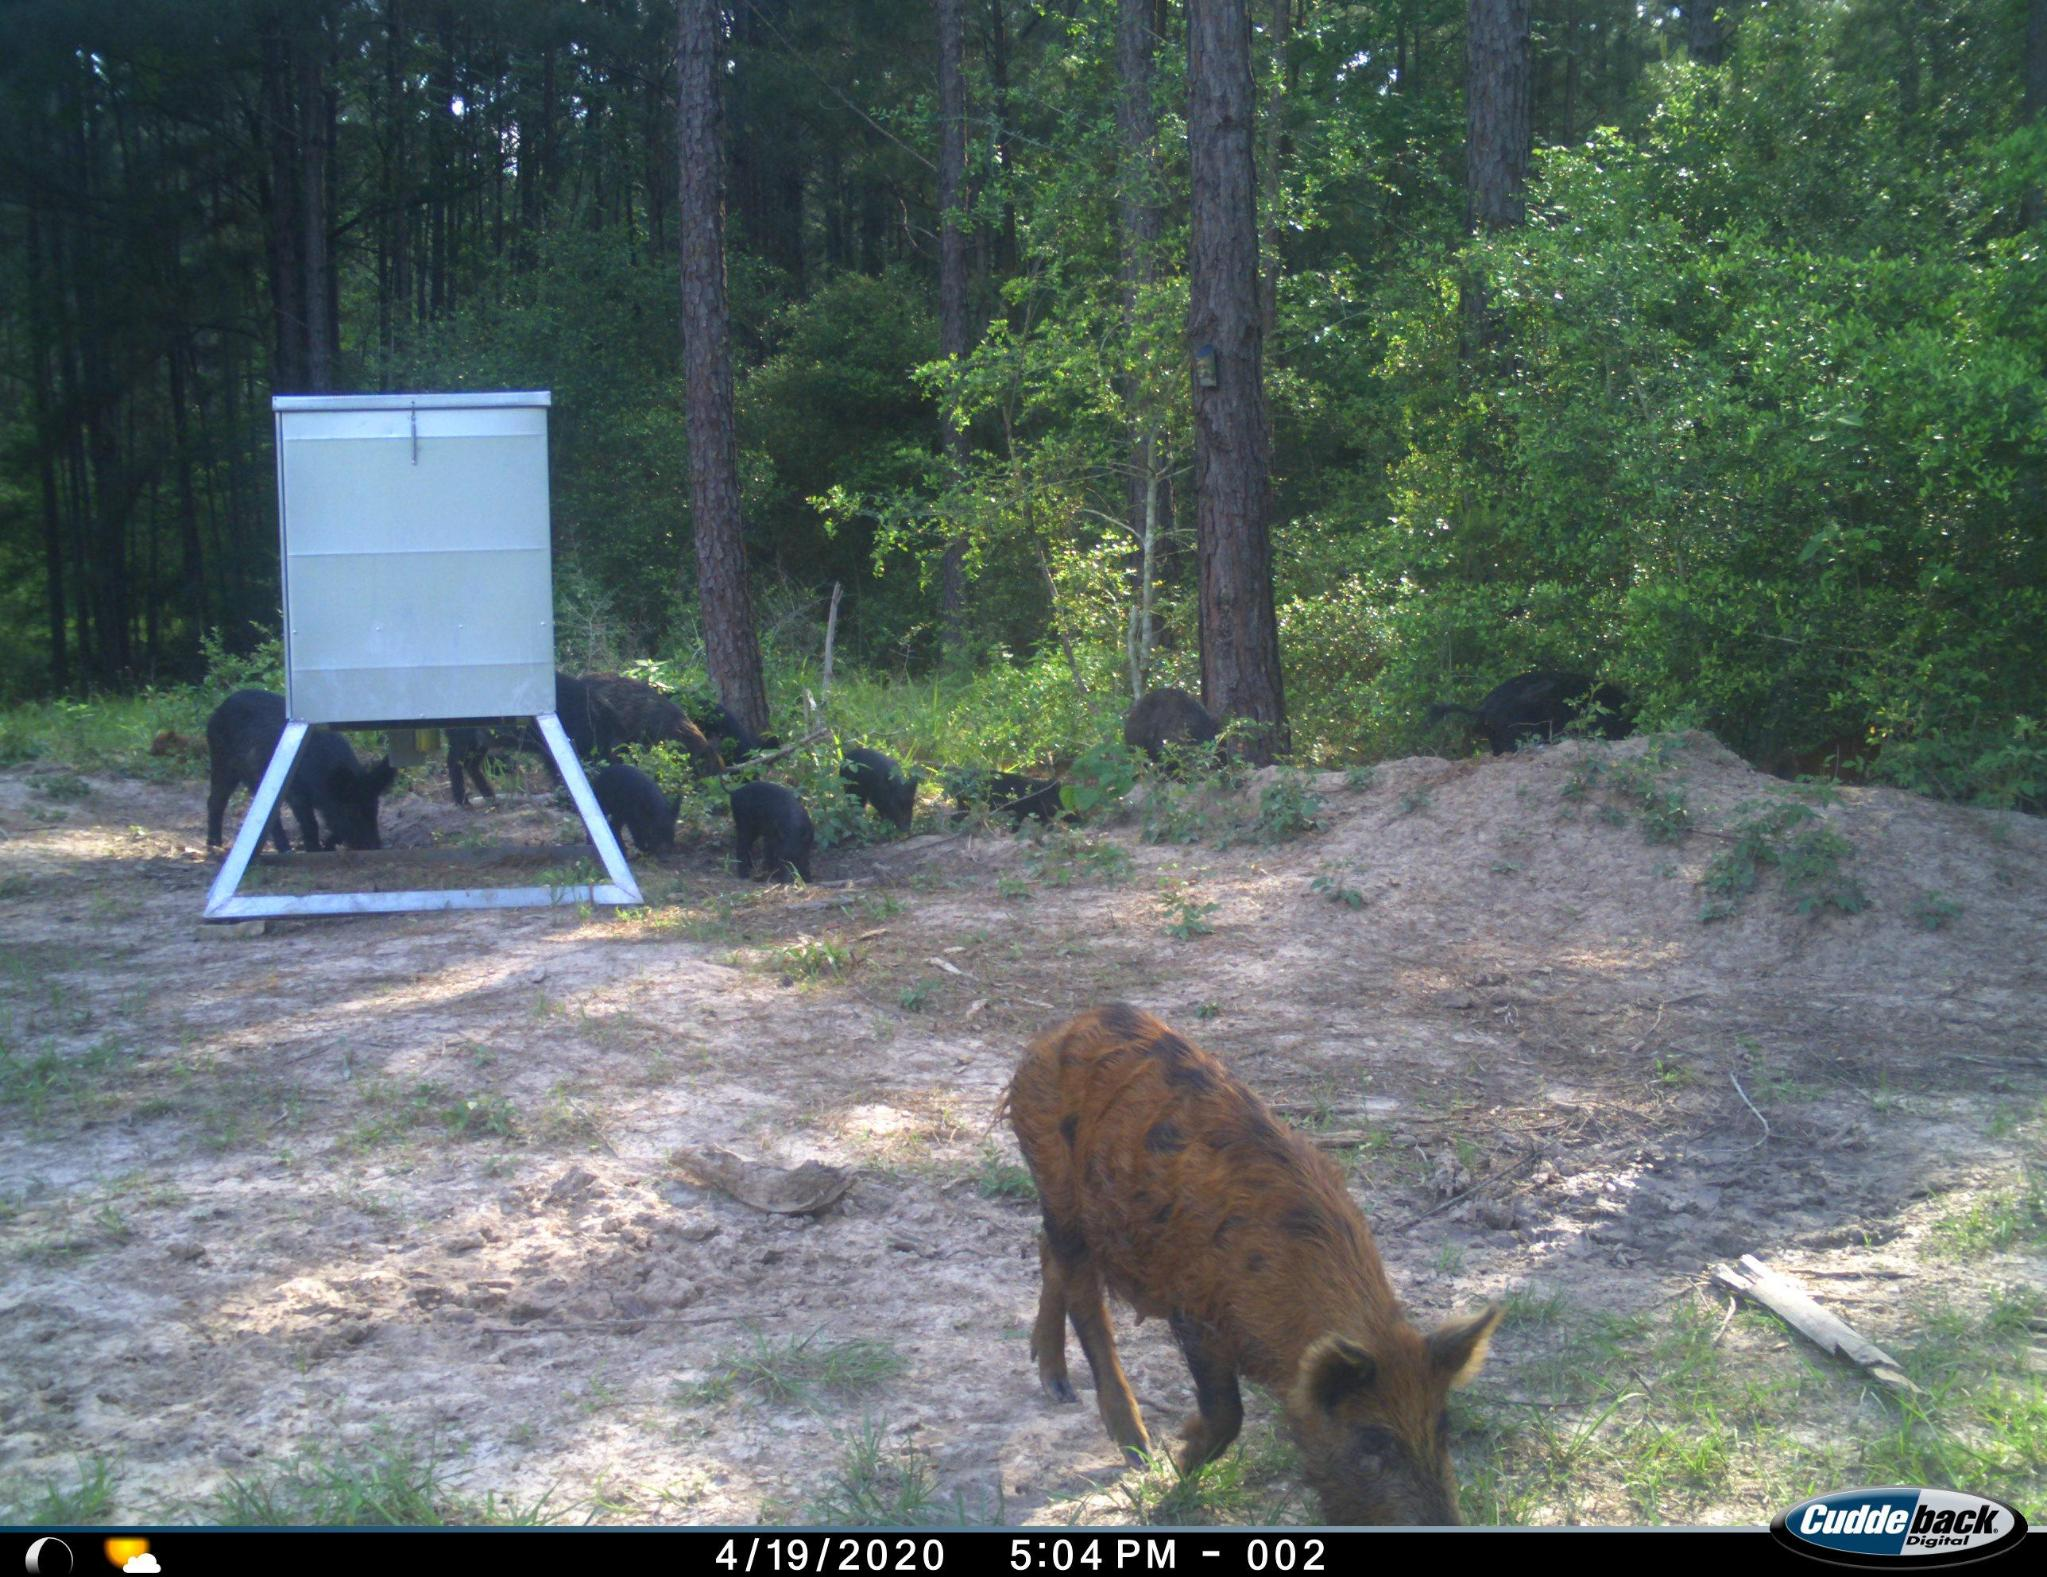Hog: (990, 997, 1514, 1527), (194, 684, 396, 851), (714, 775, 826, 888), (583, 759, 687, 853), (846, 745, 924, 835)
